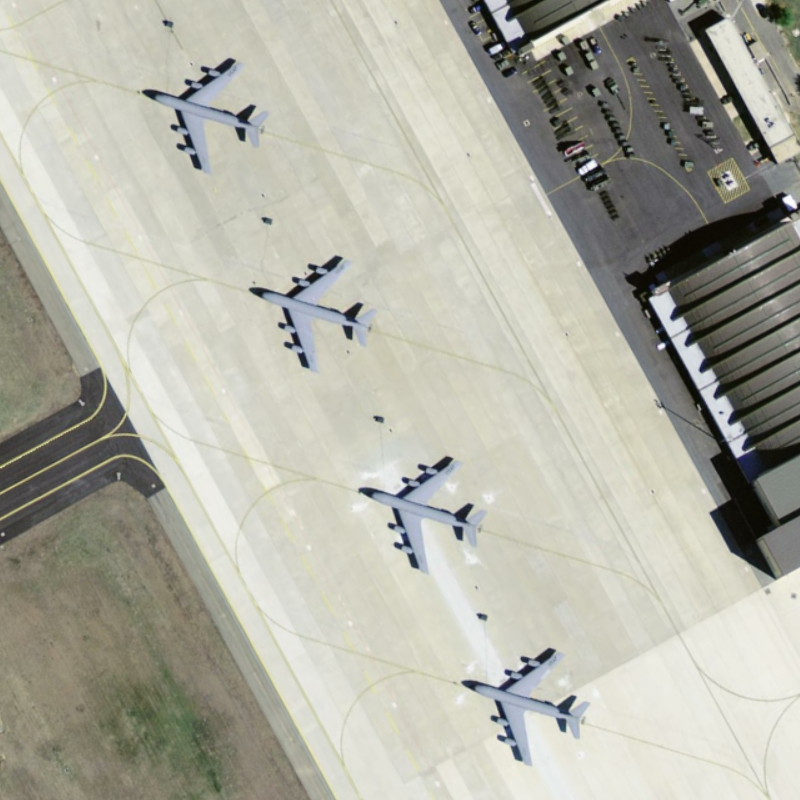A14: (132, 55, 276, 181), (247, 251, 380, 377), (360, 449, 491, 575), (465, 645, 596, 771)
